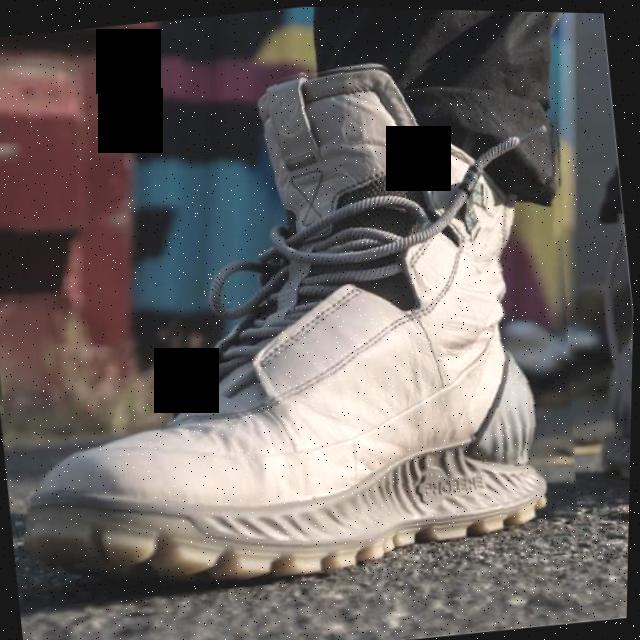shoe: (0, 30, 612, 618)
